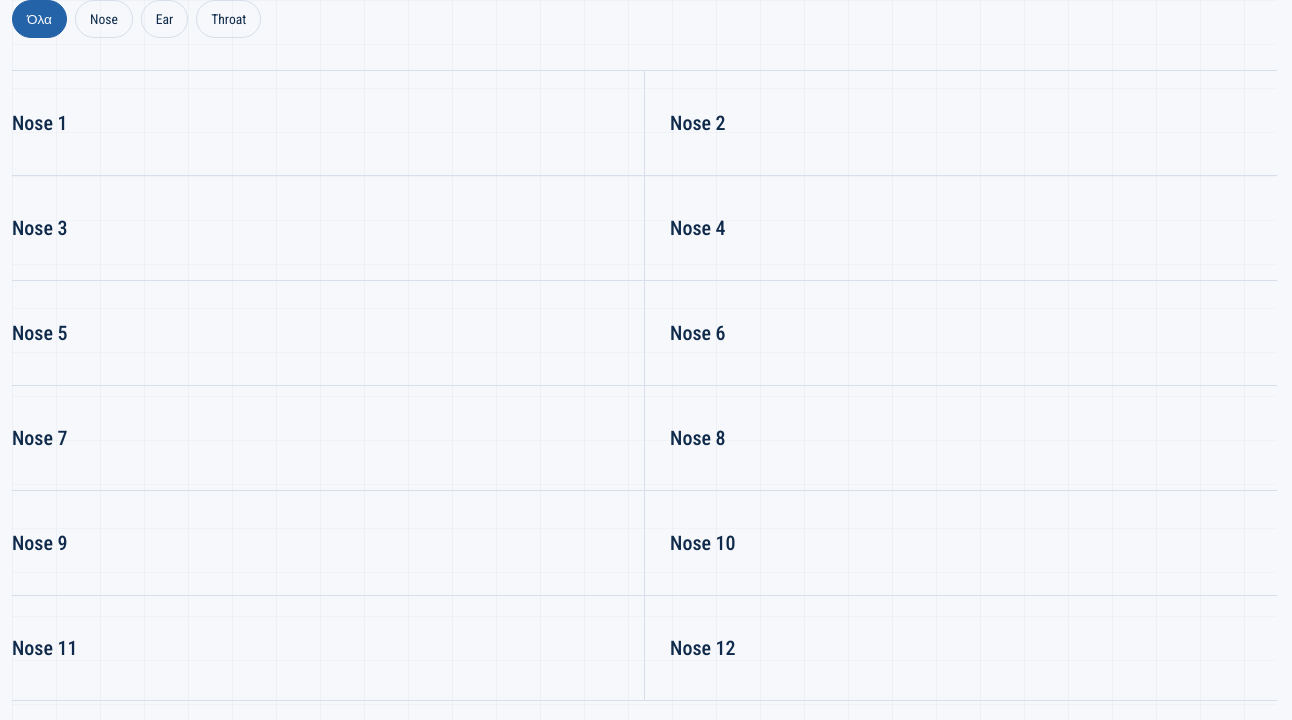
it: SectionIndexGrid filtering › resets pagination when the active filter changes
Click the button "Nose".
click(104, 19)  # box [75,0,133,38]
(page scrolled)
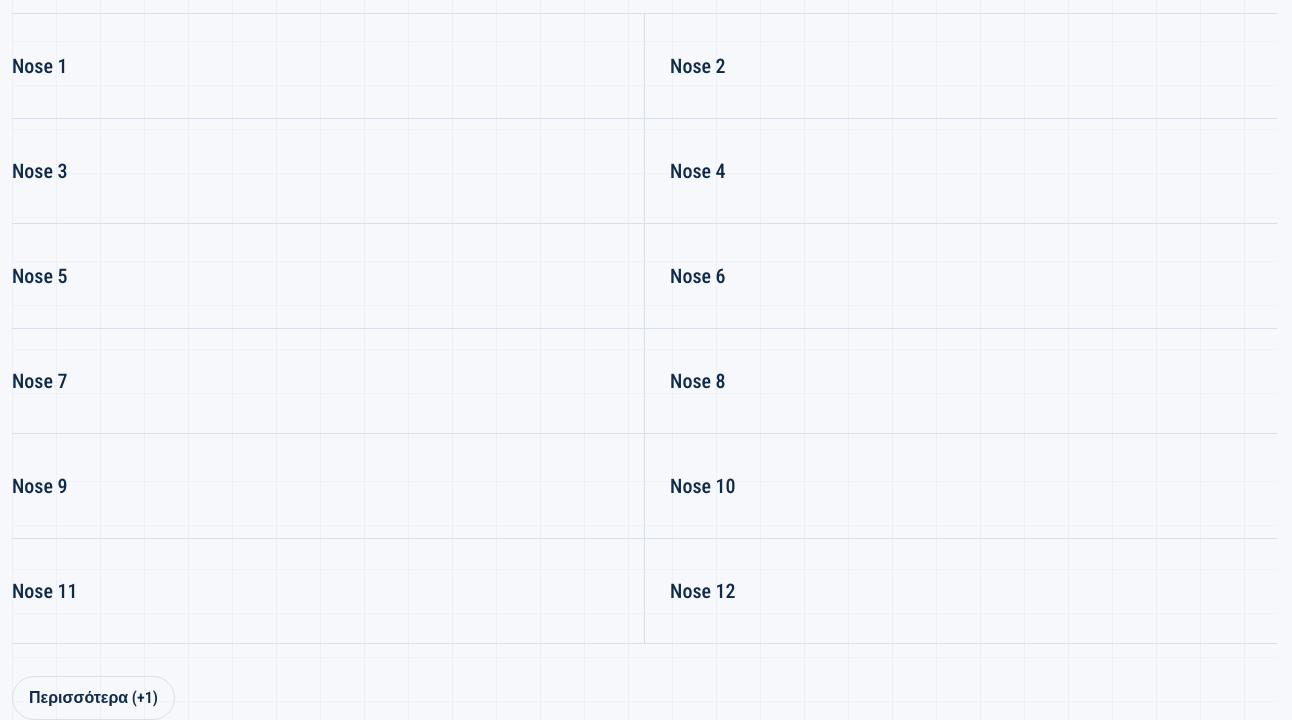
Click the button "Περισσότερα (+1)".
click(93, 698)  # box [12,676,175,719]
(page scrolled)
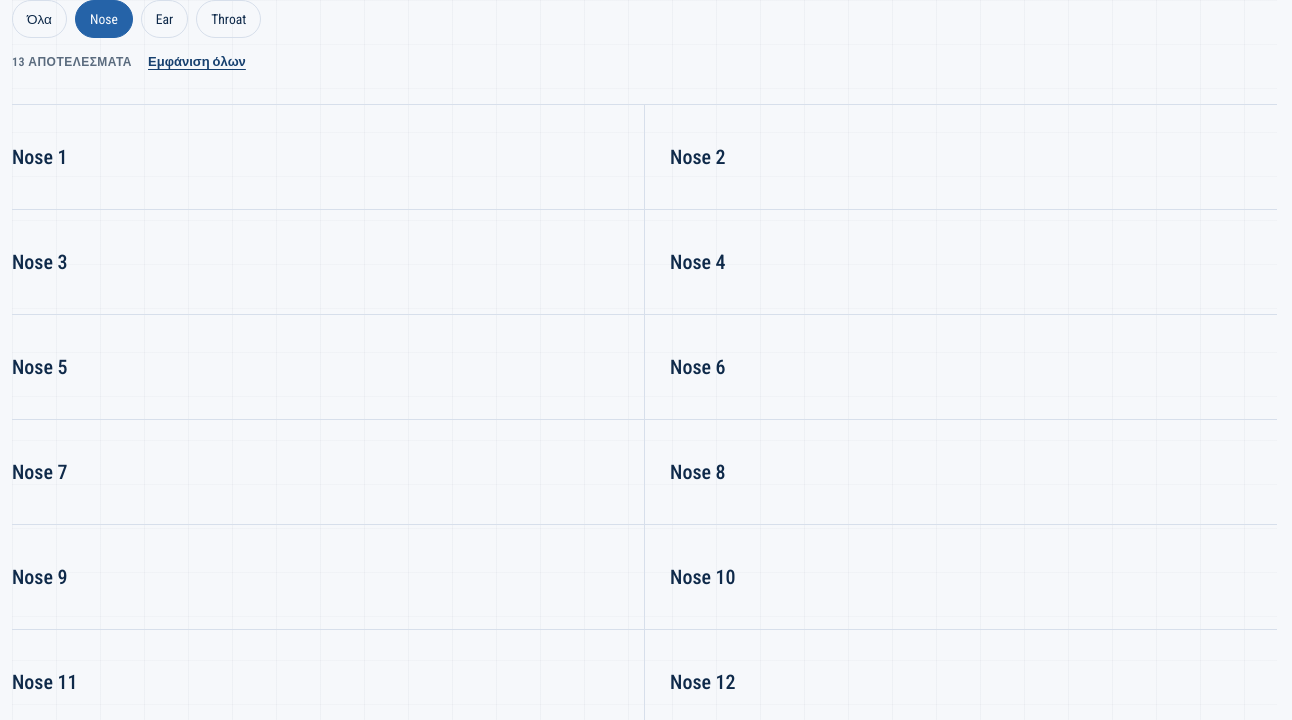
Expected: the number of links is 13
Click the button "Ear".
click(164, 19)  # box [141,0,188,38]
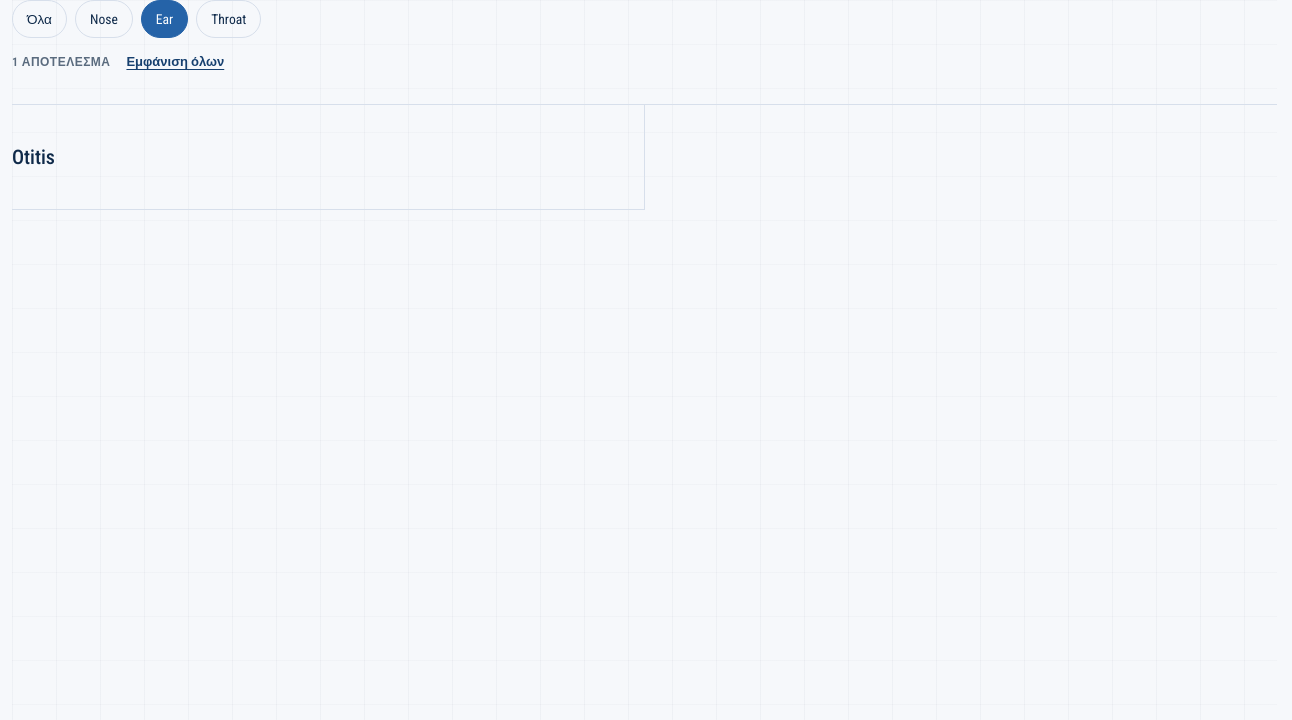
Expected: the number of links is 1, [12,145,55,169]
